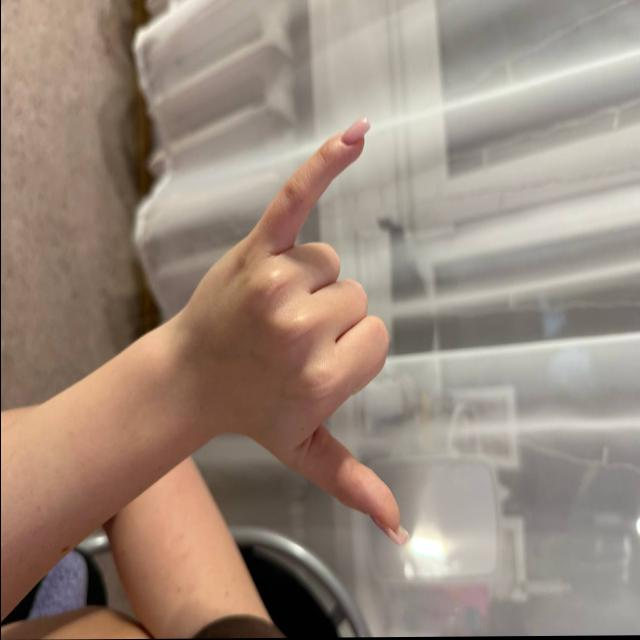u: (218, 85, 406, 588)
